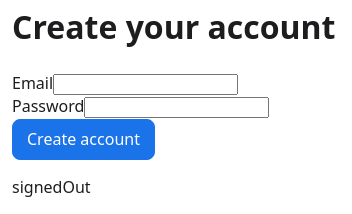
Test: SignUpForm › signs the user in on success without a page reload
Type "Ana@Example.com" into the field labelled "Email" at (146, 85), box 53,74 -> 238,95
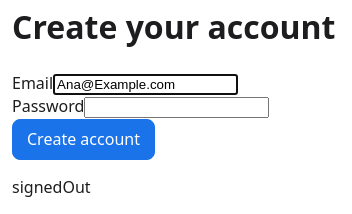
Type "correct-horse-battery-staple-42" into the password field labelled "Password" at (177, 108), box 84,98 -> 269,118
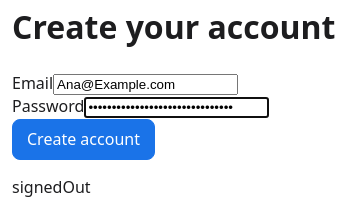
Click the button "Create account" at (83, 139), box 12,119 -> 155,160
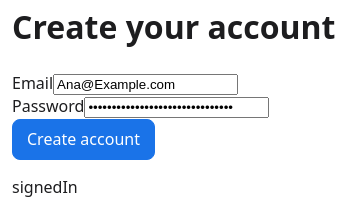
Result: the text with test id "status" reads "signedIn" at 12,176 -> 78,198
